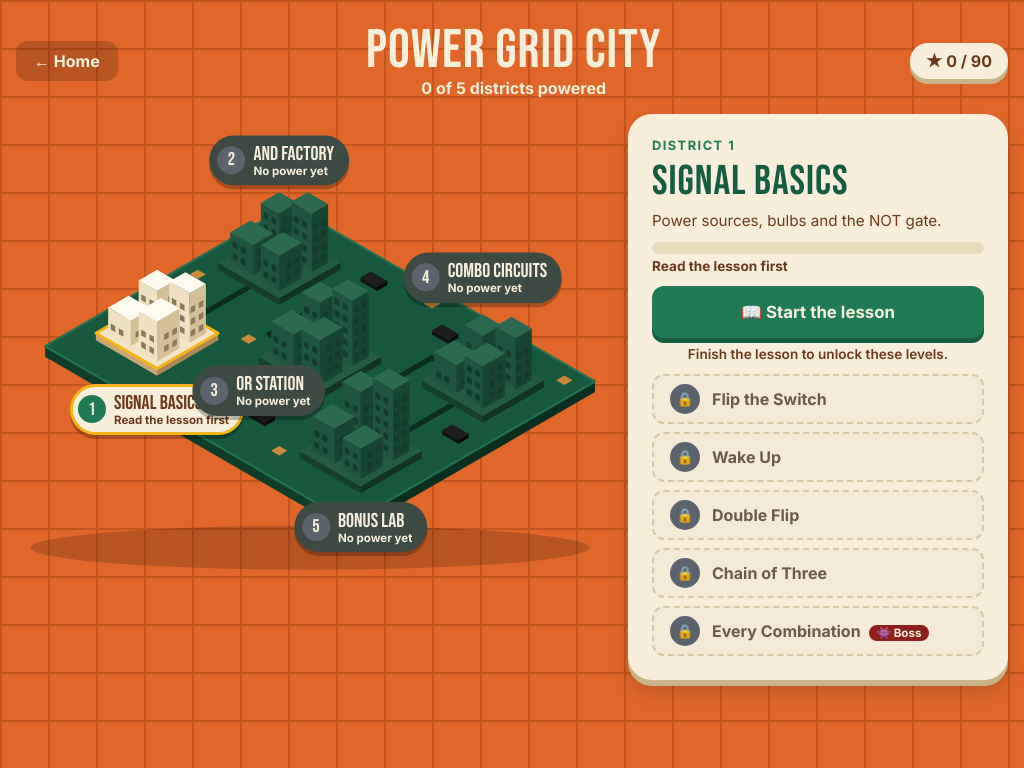
CityMapPage › shows another district when its button is pressed
Click the button "2 AND Factory No power yet" at (279, 160), box [209,135,349,186]
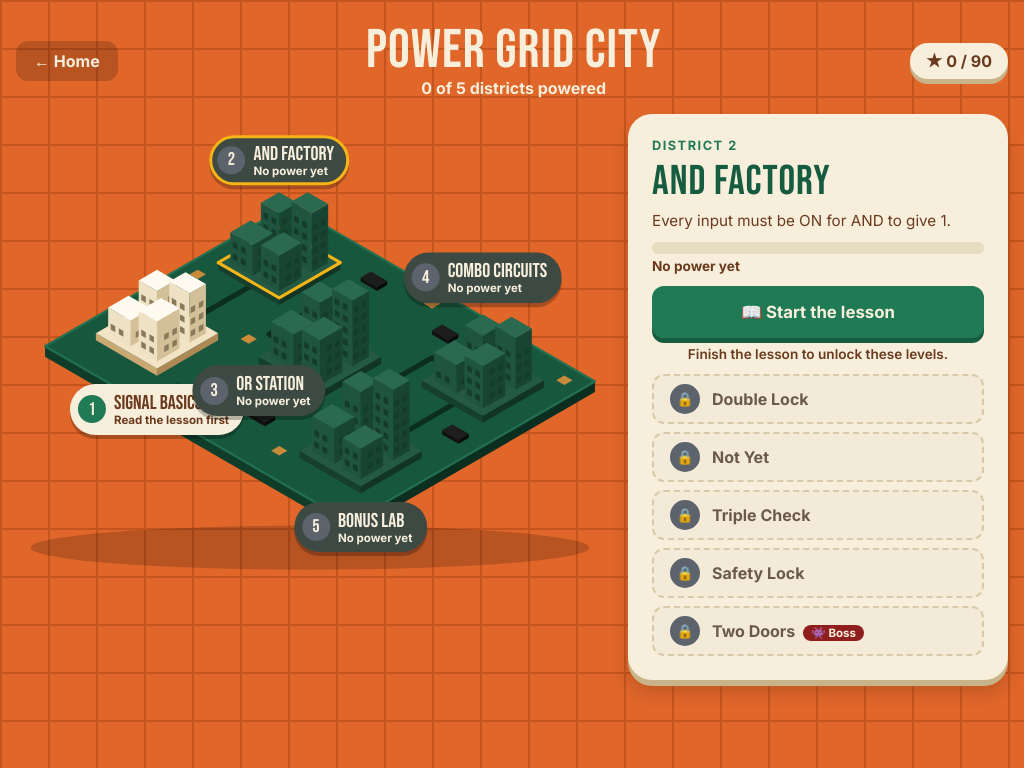
Check: the heading "AND Factory" is shown, box [652,157,831,206]
